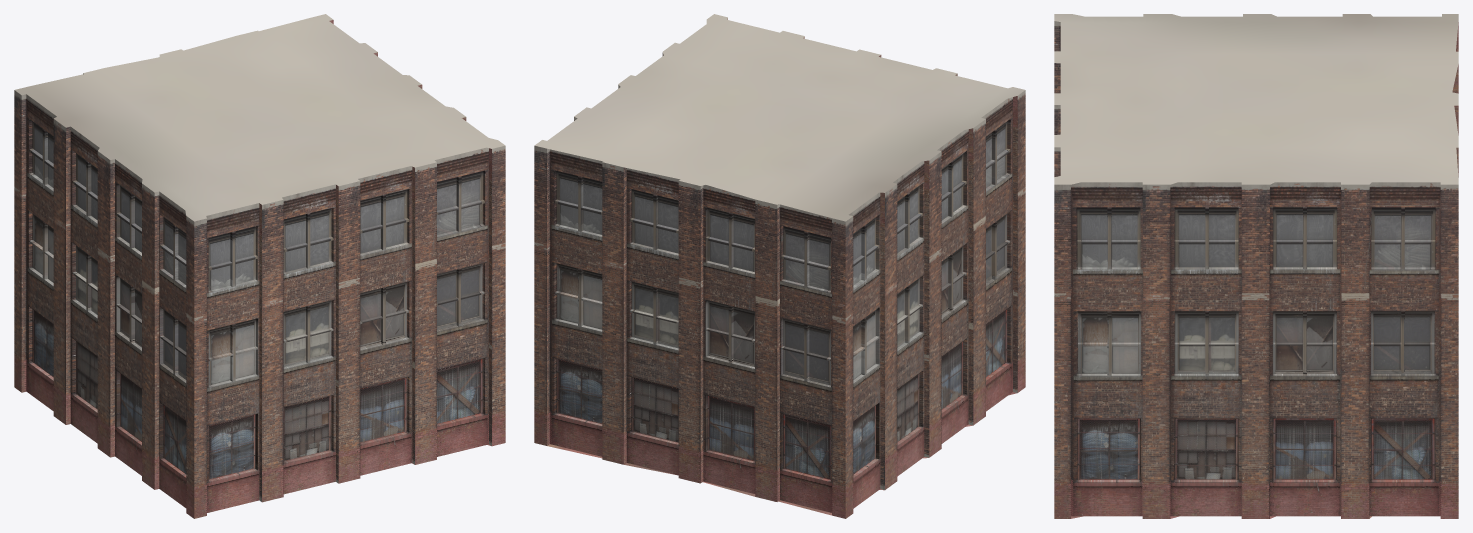
The model's file is edificios.fbx.
3 renders of one model, left to right at view 1: azimuth 30°, elevation 25°; view 2: azimuth 150°, elevation 25°; view 3: azimuth 270°, elevation 25°, orthographic. The views are drawn at different scales.
Parts seen in each view (by area): view 1: TexturesCom_BuildingsIndustrial0097_2_M.002; view 2: TexturesCom_BuildingsIndustrial0097_2_M.002; view 3: TexturesCom_BuildingsIndustrial0097_2_M.002.
Part boxes in pixels (x1,y1,x2,y2): TexturesCom_BuildingsIndustrial0097_2_M.002: (14, 14, 505, 518); TexturesCom_BuildingsIndustrial0097_2_M.002: (534, 14, 1025, 518); TexturesCom_BuildingsIndustrial0097_2_M.002: (1054, 14, 1458, 518).
Bounding box in the file's own units: 1973 × 1801 × 1973.
